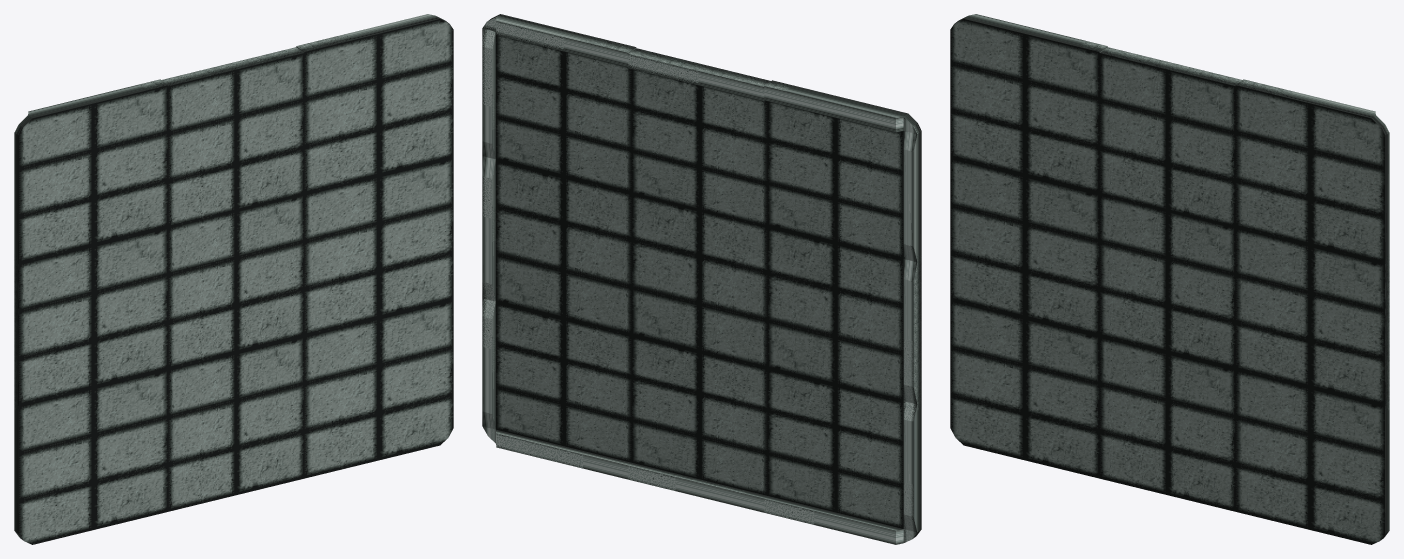
Rendered from ModularAssets_onewayplatform.fbx.
3 renders of one model, left to right at view 1: azimuth 30°, elevation 25°; view 2: azimuth 150°, elevation 25°; view 3: azimuth 330°, elevation 25°, orthographic.
Parts seen in each view (by area): view 1: onewayplatform.back.right, onewayplatform.back.left, onewayplatform.middle.right, onewayplatform.front.right, onewayplatform.middle.left, onewayplatform.front.left, onewayplatform.back.center, onewayplatform.front.center, onewayplatform.middle.center; view 2: onewayplatform.back.right, onewayplatform.front.right, onewayplatform.middle.right, onewayplatform.back.left, onewayplatform.front.left, onewayplatform.middle.left, onewayplatform.front.center, onewayplatform.back.center, onewayplatform.middle.center; view 3: onewayplatform.back.left, onewayplatform.back.right, onewayplatform.middle.left, onewayplatform.front.left, onewayplatform.middle.right, onewayplatform.front.right, onewayplatform.back.center, onewayplatform.front.center, onewayplatform.middle.center.
Part boxes in pixels (x1,y1,x2,y2): onewayplatform.back.right: (14,79,168,263); onewayplatform.back.left: (296,14,453,193); onewayplatform.middle.right: (14,227,168,405); onewayplatform.front.right: (14,370,168,544); onewayplatform.middle.left: (304,158,453,336); onewayplatform.front.left: (304,300,453,478); onewayplatform.back.center: (161,47,304,228); onewayplatform.front.center: (168,336,304,511); onewayplatform.middle.center: (168,195,304,369); onewayplatform.back.right: (764,80,921,261); onewayplatform.front.right: (764,368,921,544); onewayplatform.middle.right: (767,226,921,404); onewayplatform.back.left: (482,14,636,192); onewayplatform.front.left: (482,298,631,479); onewayplatform.middle.left: (482,156,631,334); onewayplatform.front.center: (628,335,767,512); onewayplatform.back.center: (628,48,770,225); onewayplatform.middle.center: (632,192,767,367); onewayplatform.back.left: (1235,79,1389,263); onewayplatform.back.right: (950,14,1107,193); onewayplatform.middle.left: (1235,227,1389,405); onewayplatform.front.left: (1235,370,1389,544); onewayplatform.middle.right: (950,158,1099,336); onewayplatform.front.right: (950,300,1099,478); onewayplatform.back.center: (1099,47,1242,228); onewayplatform.front.center: (1099,336,1235,511); onewayplatform.middle.center: (1099,195,1235,369).
Size of the model in its own units: 320 by 300 by 10.42.
Materials: 1 (1 with a texture image).
